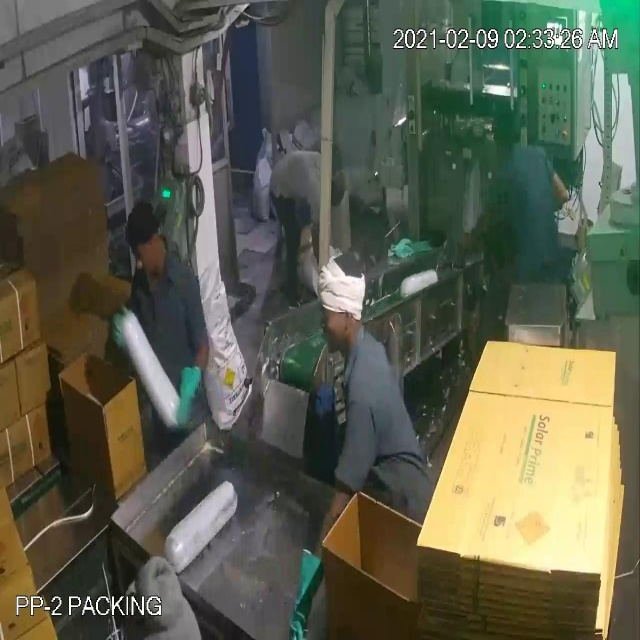Guantes: (279, 534, 334, 640), (174, 348, 210, 440), (99, 297, 140, 356)
Sin_guantes: (448, 190, 512, 267)
